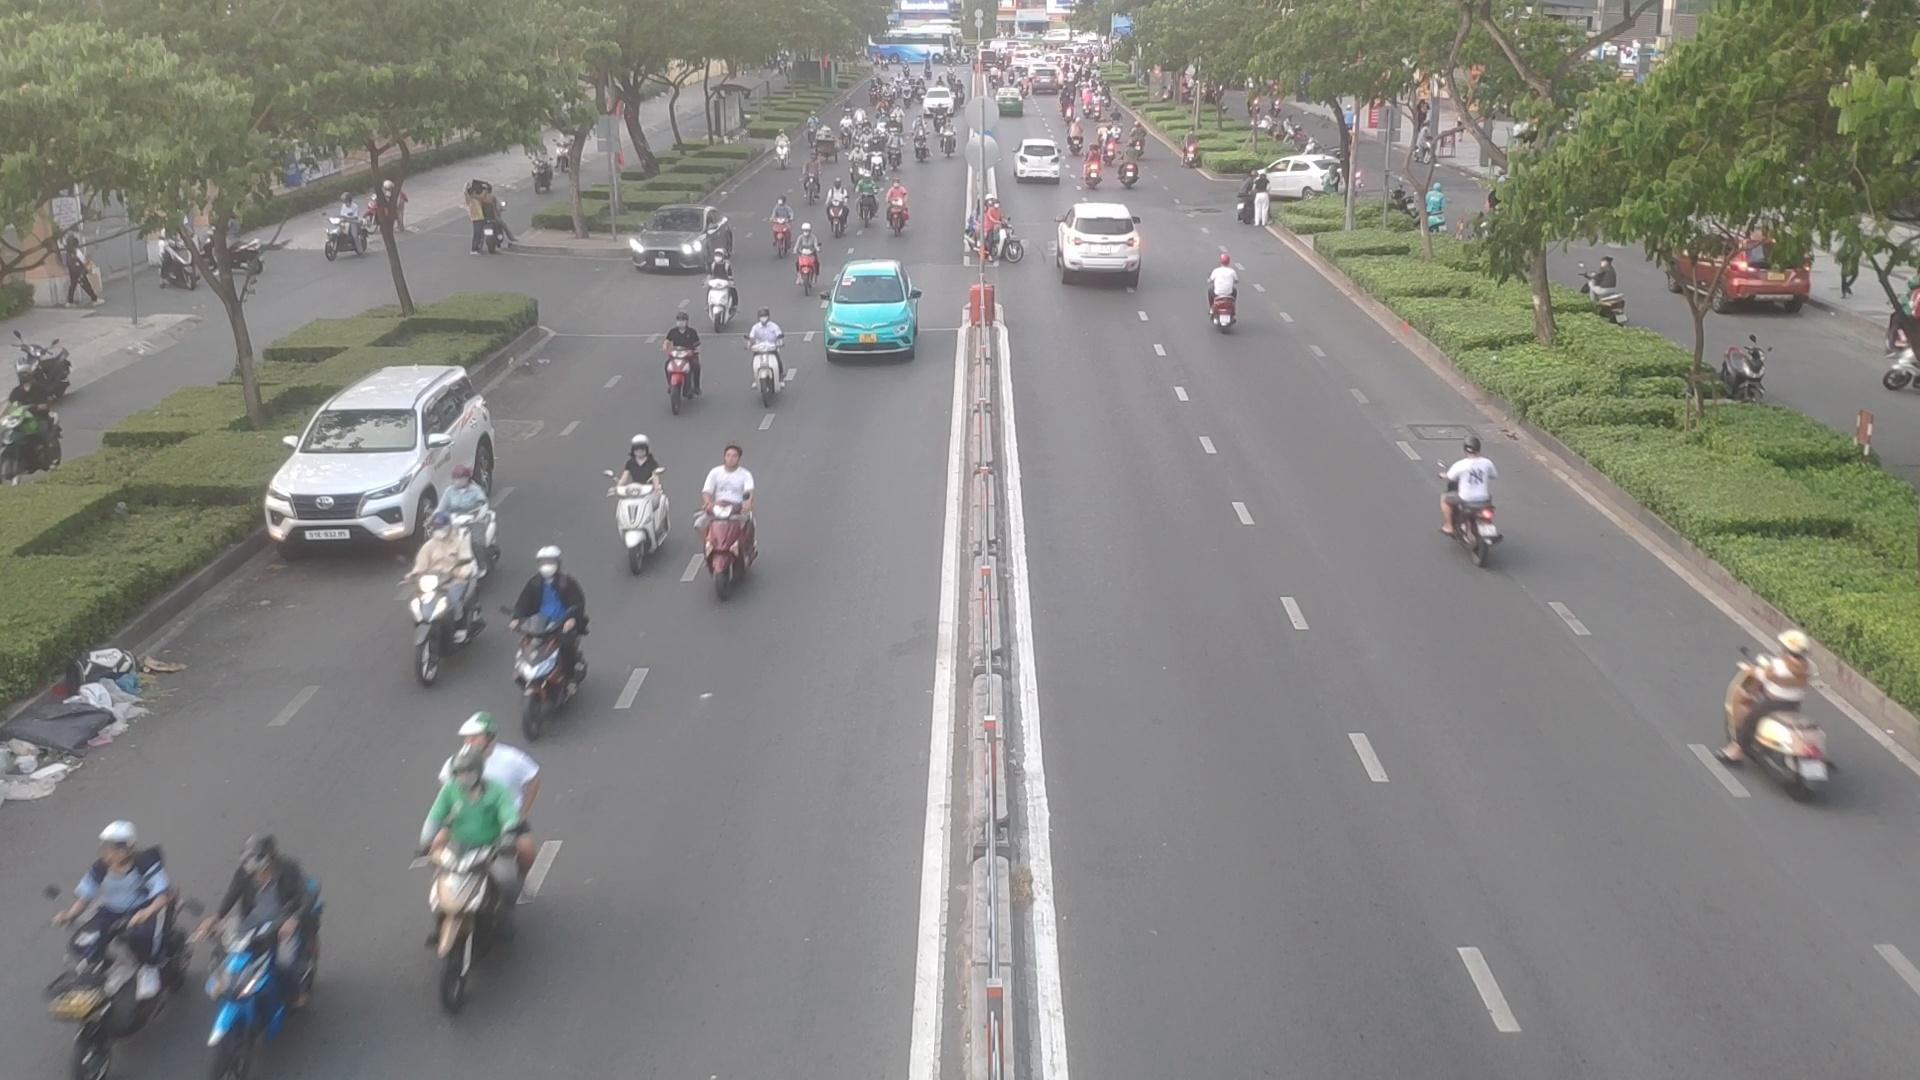car: (265, 363, 498, 559), (823, 260, 927, 367), (1059, 200, 1151, 284), (624, 204, 731, 274), (1000, 136, 1062, 182)
motorbike: (11, 823, 173, 1073), (187, 814, 351, 1042), (431, 742, 547, 1030), (1720, 638, 1847, 814), (502, 560, 591, 724), (713, 430, 791, 596), (1431, 443, 1516, 584), (597, 426, 679, 570), (419, 527, 467, 661), (659, 314, 705, 405), (978, 208, 1029, 282), (702, 253, 738, 334), (1207, 249, 1244, 328), (750, 305, 785, 388), (876, 178, 916, 245), (766, 196, 796, 268), (794, 229, 820, 299), (820, 183, 843, 243), (800, 154, 824, 200), (1117, 145, 1139, 193), (771, 129, 796, 169), (864, 173, 881, 225), (872, 136, 884, 182), (1085, 148, 1098, 187), (887, 137, 905, 167), (852, 146, 862, 189)
